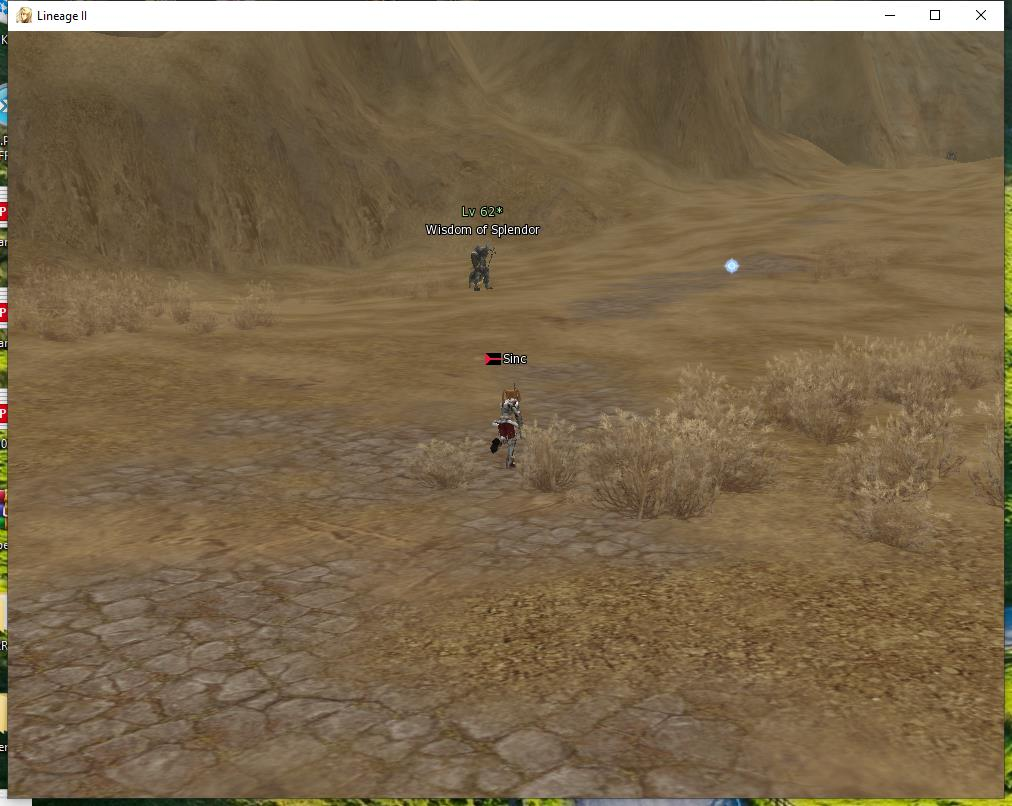monster: (417, 189, 563, 310)
